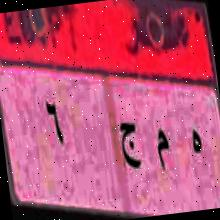6: (42, 93, 67, 152)
haa: (182, 116, 206, 164)
jeem: (113, 111, 144, 178)
meem: (152, 120, 174, 178)
